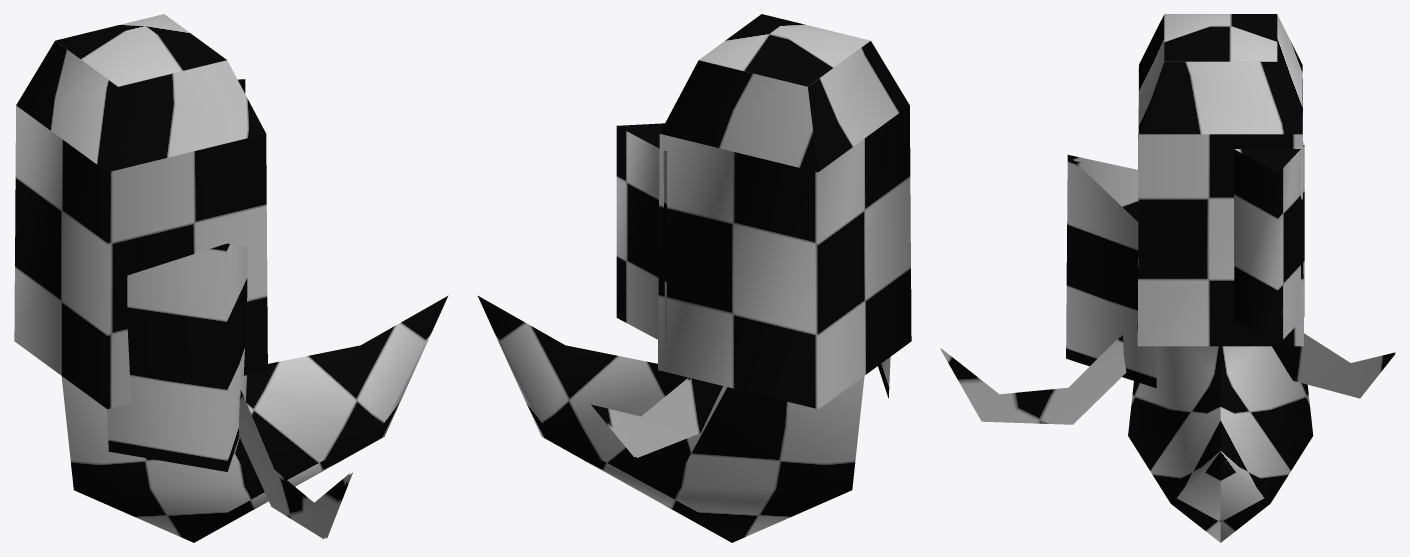
File: capsule_sibelon_emperor.obj
3 renders of one model, left to right at view 1: azimuth 30°, elevation 25°; view 2: azimuth 150°, elevation 25°; view 3: azimuth 270°, elevation 25°, orthographic. The views are drawn at different scales.
Visible parts, largest first — view 1: capsule_sibelon_emperor; view 2: capsule_sibelon_emperor; view 3: capsule_sibelon_emperor.
Part boxes in pixels (x1=…): capsule_sibelon_emperor: x1=14, y1=14, x2=448, y2=542; capsule_sibelon_emperor: x1=478, y1=14, x2=911, y2=542; capsule_sibelon_emperor: x1=940, y1=14, x2=1395, y2=542.
Size of the model in its own units: 91.58 by 119 by 104.
1 material, 1 textured.
